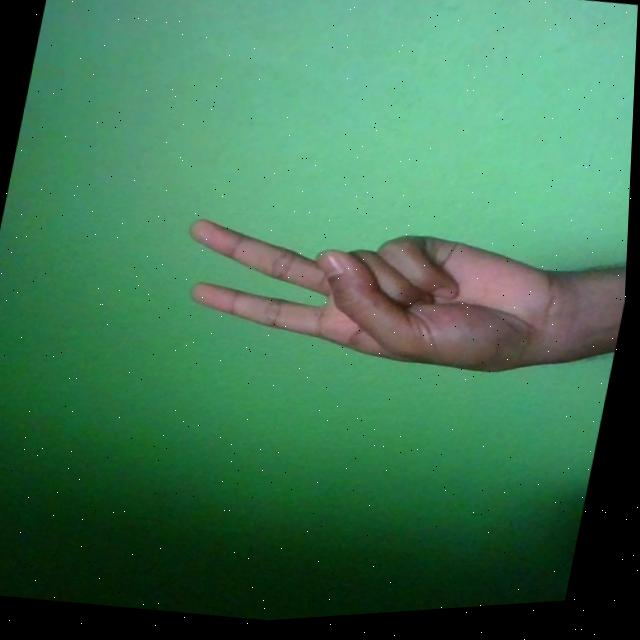Peace: (164, 195, 575, 405)
